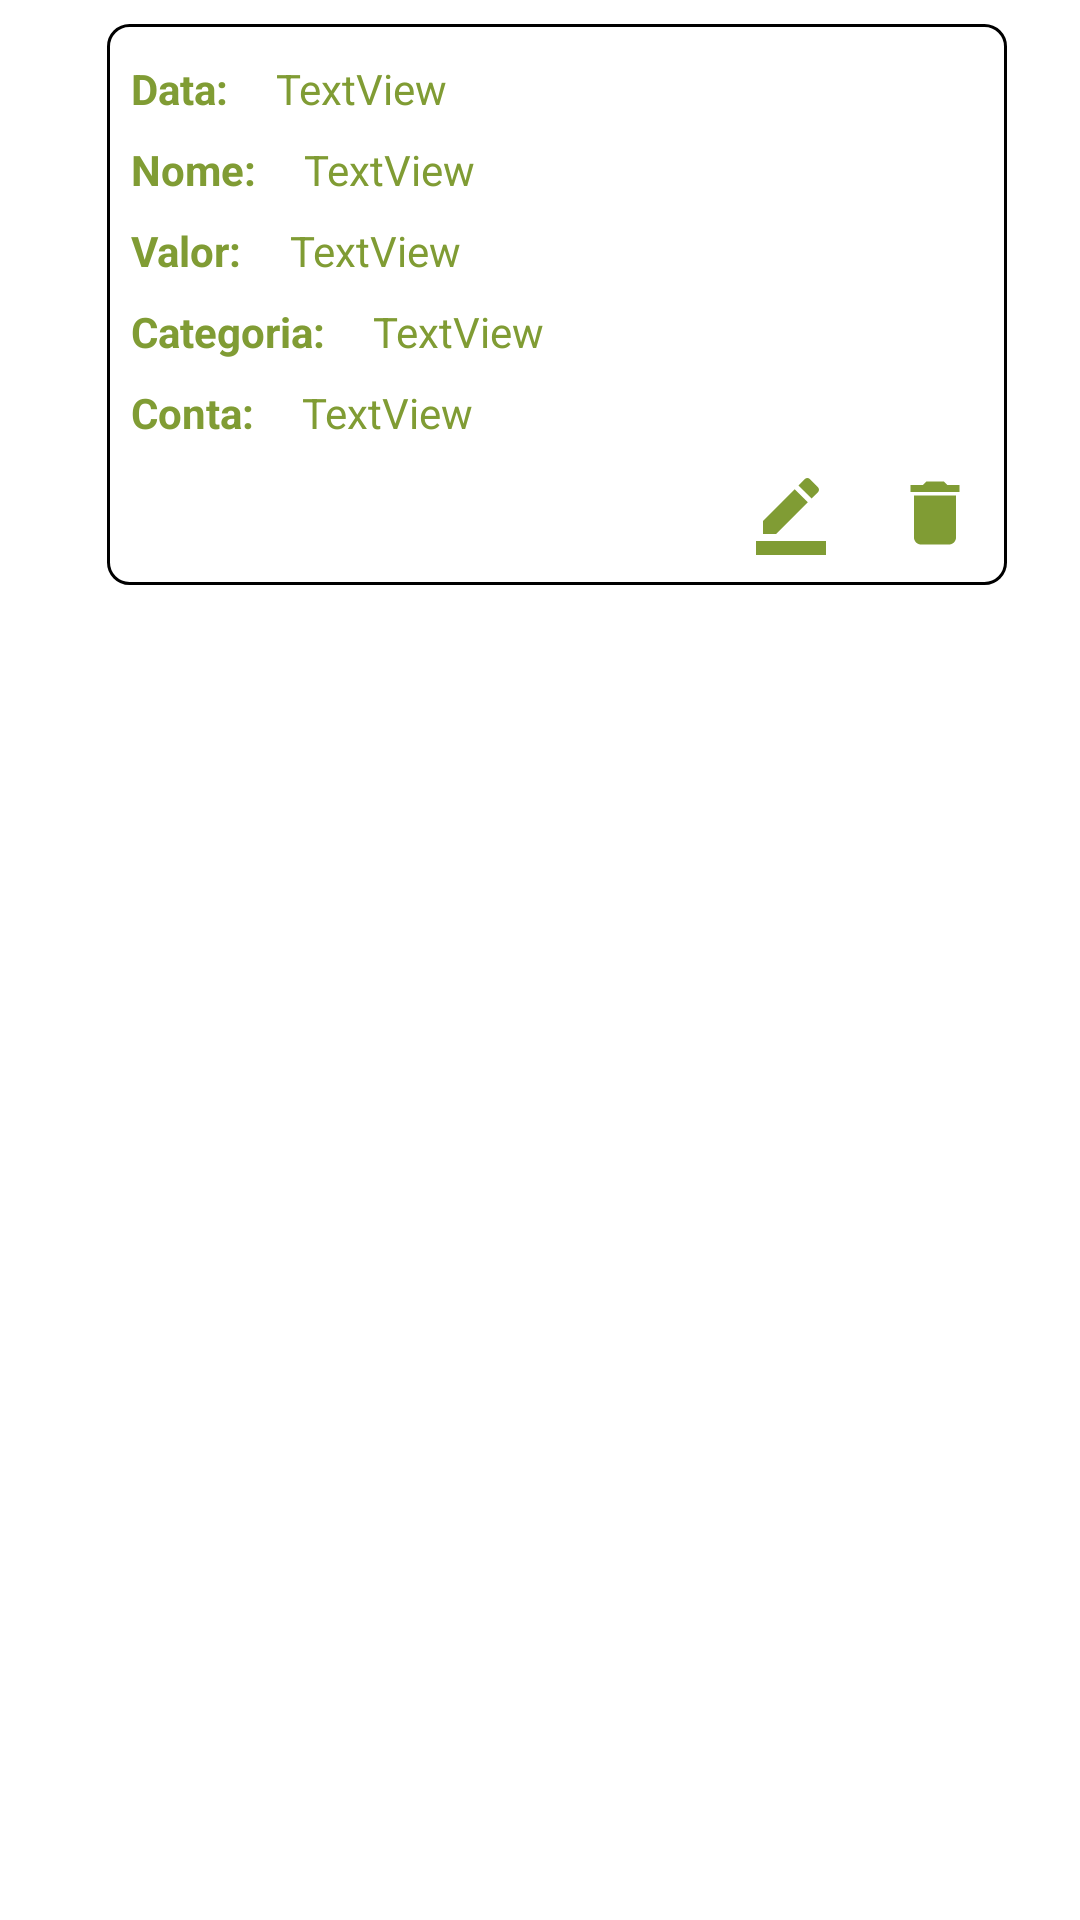

Where to tap for icons on this 1080px×1920px app screen, as point (x, y):
Editar: point (791, 516)
Remover: point (935, 513)
